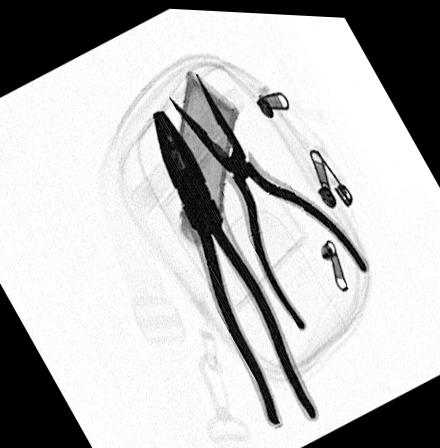Pliers: (150, 107, 318, 429), (165, 69, 369, 329)
